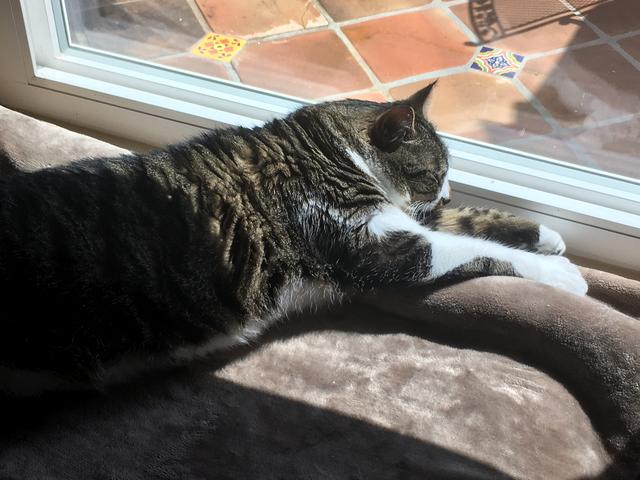playdoh: (1, 79, 588, 458)
